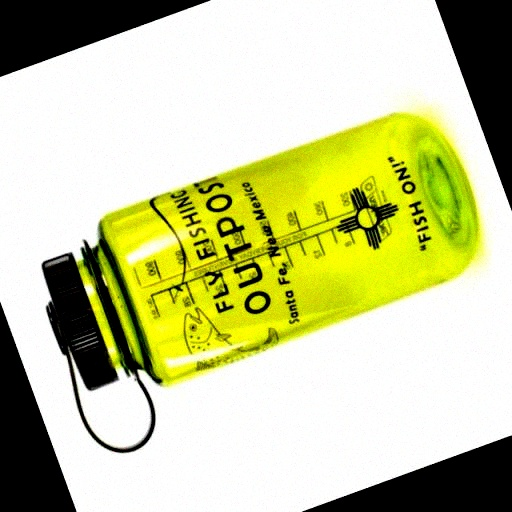bottle: (17, 91, 512, 467)
